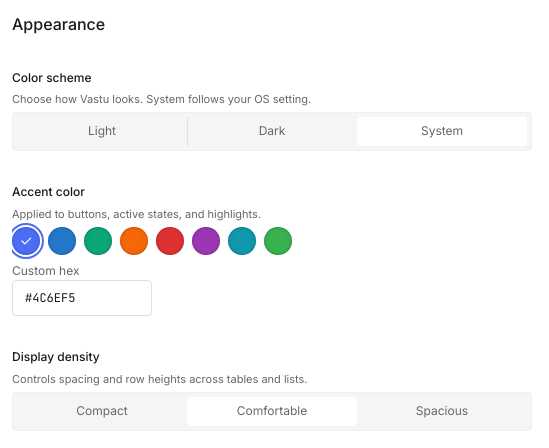
Test: AppearanceSettings › shows the Saved indicator after a successful save
Click the text "Spacious" at [442, 410], box [416,403,468,418]
Wait 600 ms
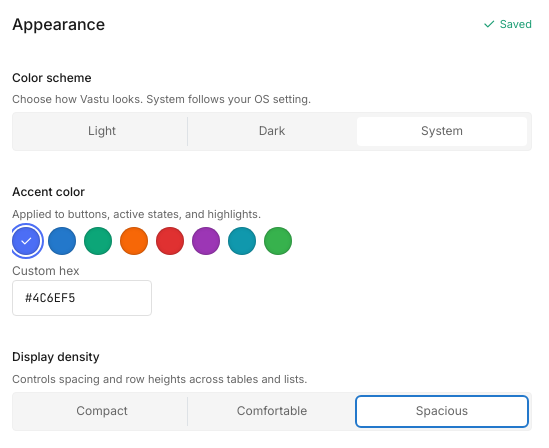
Result: the text "Saved" is shown at [500,16,532,33]
